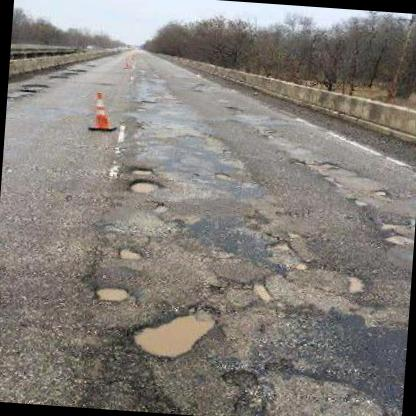pothole: (127, 299, 218, 362), (215, 367, 267, 416), (292, 158, 353, 178), (92, 284, 132, 304), (126, 178, 163, 196), (250, 280, 275, 304), (344, 274, 367, 296), (381, 231, 414, 244), (116, 246, 144, 261), (265, 238, 292, 252), (128, 162, 154, 176), (212, 169, 234, 180), (372, 188, 391, 200), (379, 221, 404, 230), (350, 197, 370, 208), (291, 259, 308, 271)
